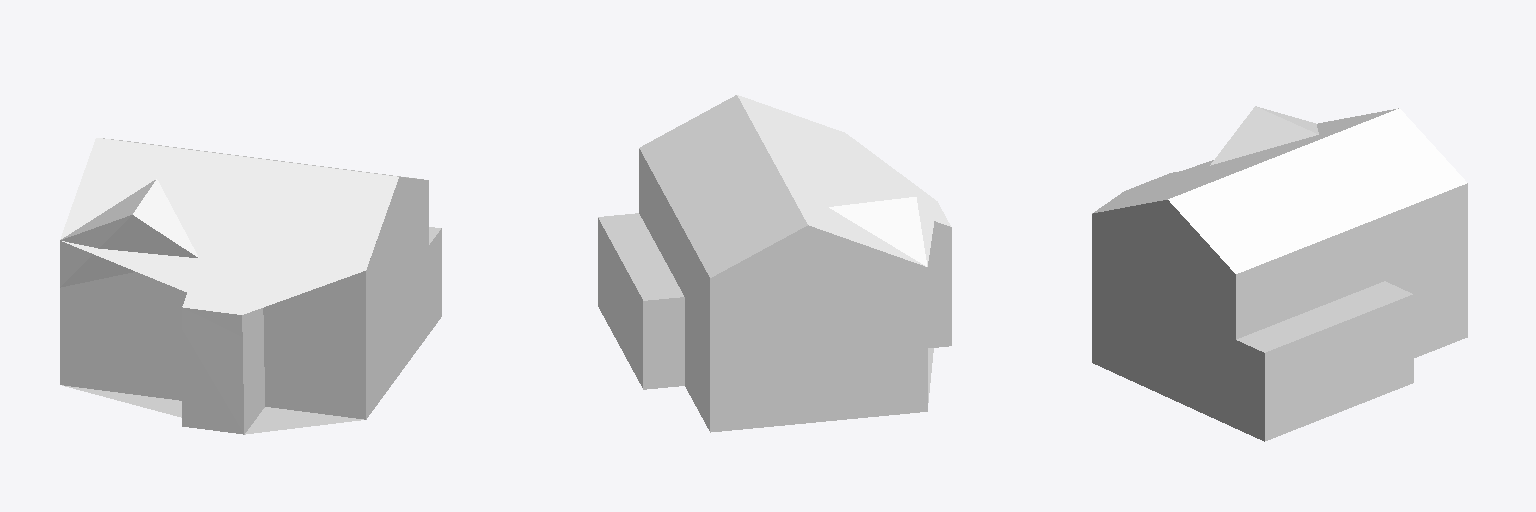
Rendered from house_Shape 294.obj.
The picture shows the model from 3 angles: view 1: azimuth 30°, elevation 25°; view 2: azimuth 150°, elevation 25°; view 3: azimuth 270°, elevation 25°; orthographic projection.
Visible parts, largest first — view 1: CityEngineMaterial_12, CityEngineMaterial_195, CityEngineMaterial_70, CityEngineMaterial_57, CityEngineMaterial_59; view 2: CityEngineMaterial_195, CityEngineMaterial_12, CityEngineMaterial_57, CityEngineMaterial_59, CityEngineMaterial_70; view 3: CityEngineMaterial_12, CityEngineMaterial_195, CityEngineMaterial_57, CityEngineMaterial_70, CityEngineMaterial_59.
Part boxes in pixels (bbox=[...]): CityEngineMaterial_12: bbox=[60, 138, 416, 314]; CityEngineMaterial_195: bbox=[60, 215, 441, 434]; CityEngineMaterial_70: bbox=[60, 241, 376, 400]; CityEngineMaterial_57: bbox=[366, 177, 428, 321]; CityEngineMaterial_59: bbox=[62, 227, 440, 434]; CityEngineMaterial_195: bbox=[598, 218, 951, 432]; CityEngineMaterial_12: bbox=[639, 95, 950, 277]; CityEngineMaterial_57: bbox=[639, 149, 709, 333]; CityEngineMaterial_59: bbox=[598, 213, 933, 402]; CityEngineMaterial_70: bbox=[639, 206, 709, 430]; CityEngineMaterial_12: bbox=[1092, 106, 1466, 273]; CityEngineMaterial_195: bbox=[1092, 211, 1413, 441]; CityEngineMaterial_57: bbox=[1092, 183, 1467, 330]; CityEngineMaterial_70: bbox=[1236, 240, 1467, 357]; CityEngineMaterial_59: bbox=[1237, 281, 1412, 352].
Size of the model in its own units: 17.22 by 9.16 by 15.75.